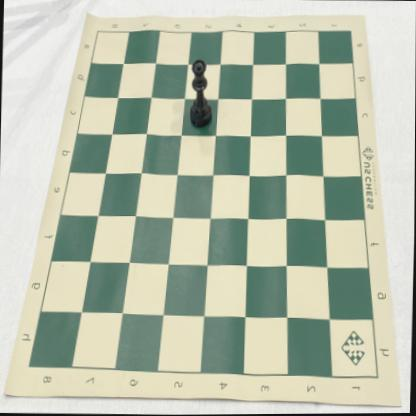black-queen: (188, 58, 214, 130)
